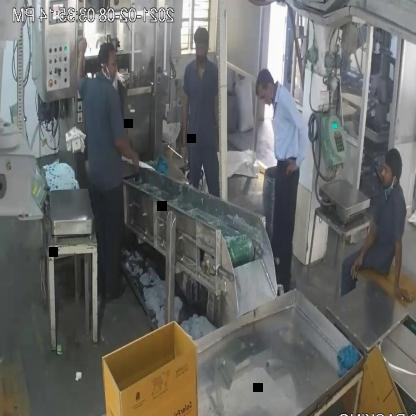no_glove: (340, 205, 384, 293), (280, 97, 318, 189), (386, 215, 414, 307), (104, 126, 154, 167), (172, 83, 195, 165), (70, 32, 91, 103)
